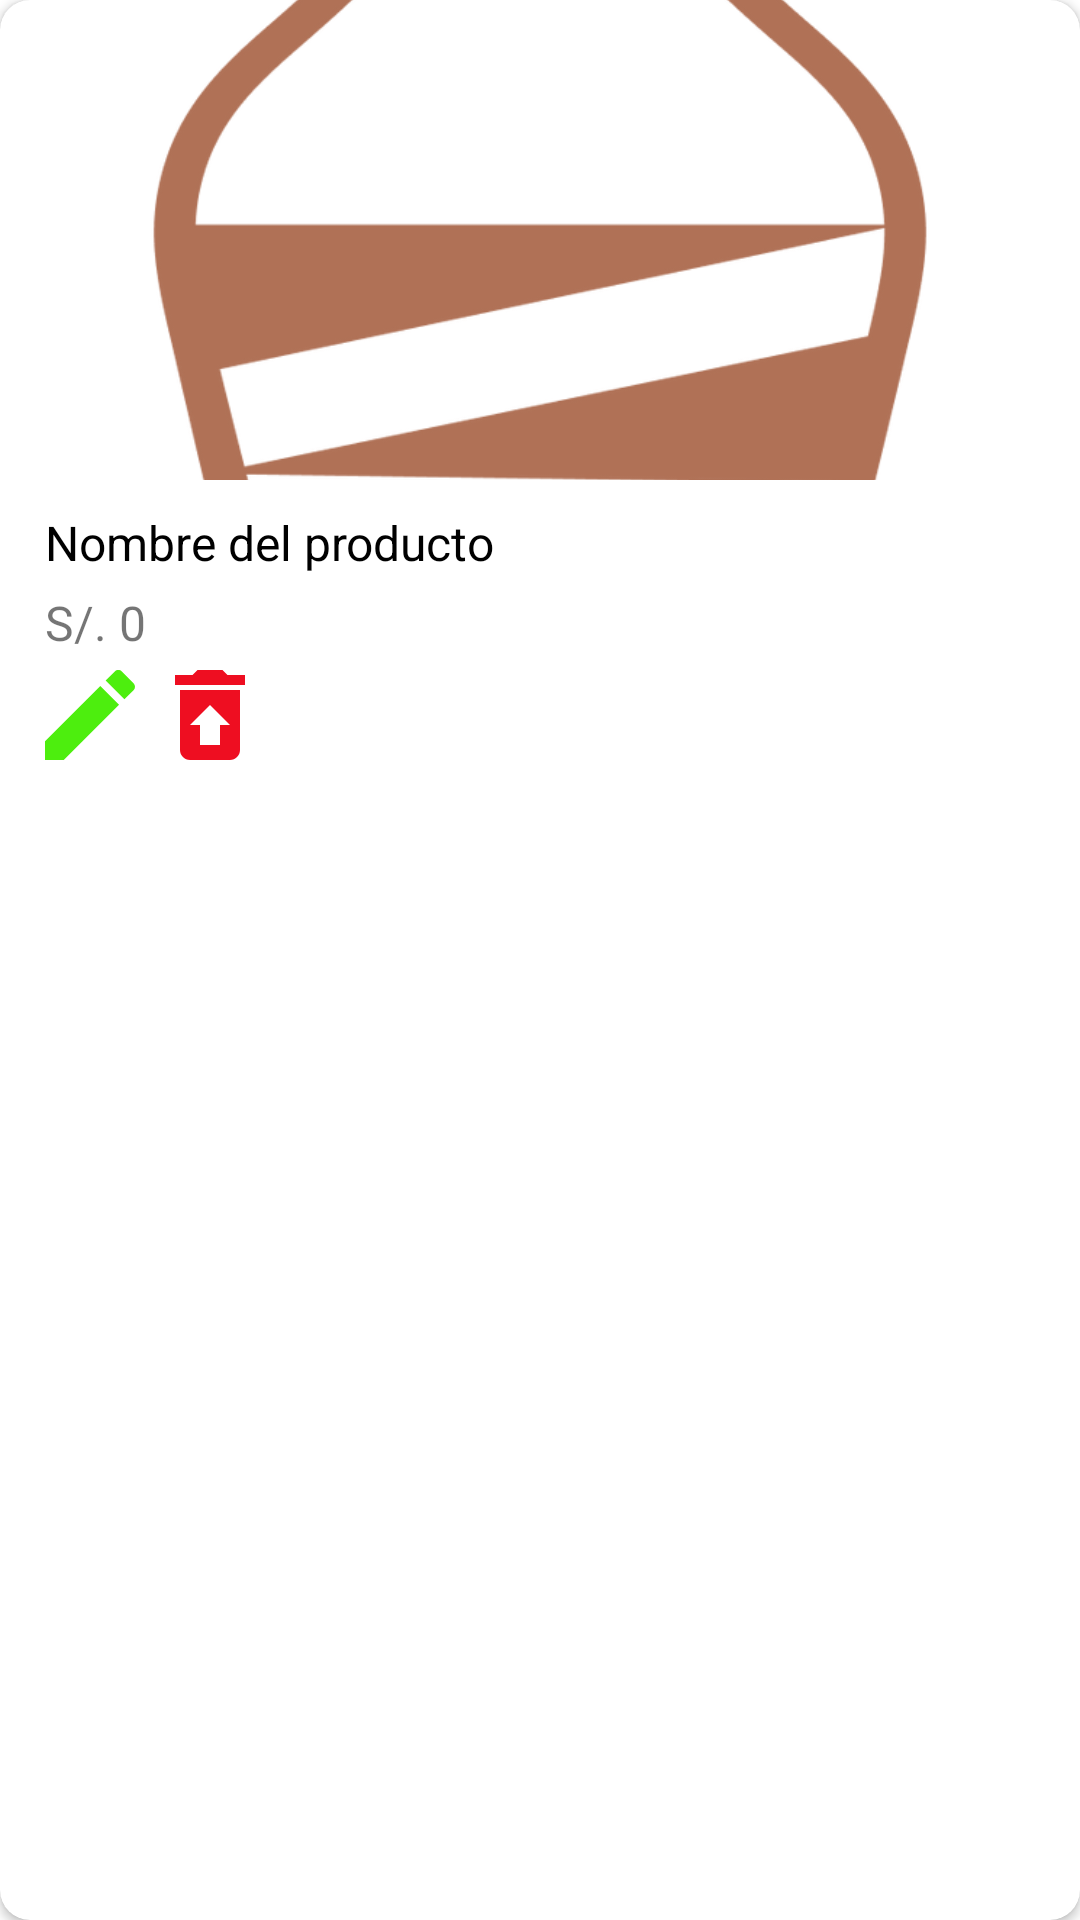

Named icons in this screenshot (1080 x 1920) and their bounding boxes, (x1, y1, x2, y2):
edit user: (45, 670, 135, 760)
eliminacion user: (175, 670, 245, 760)
